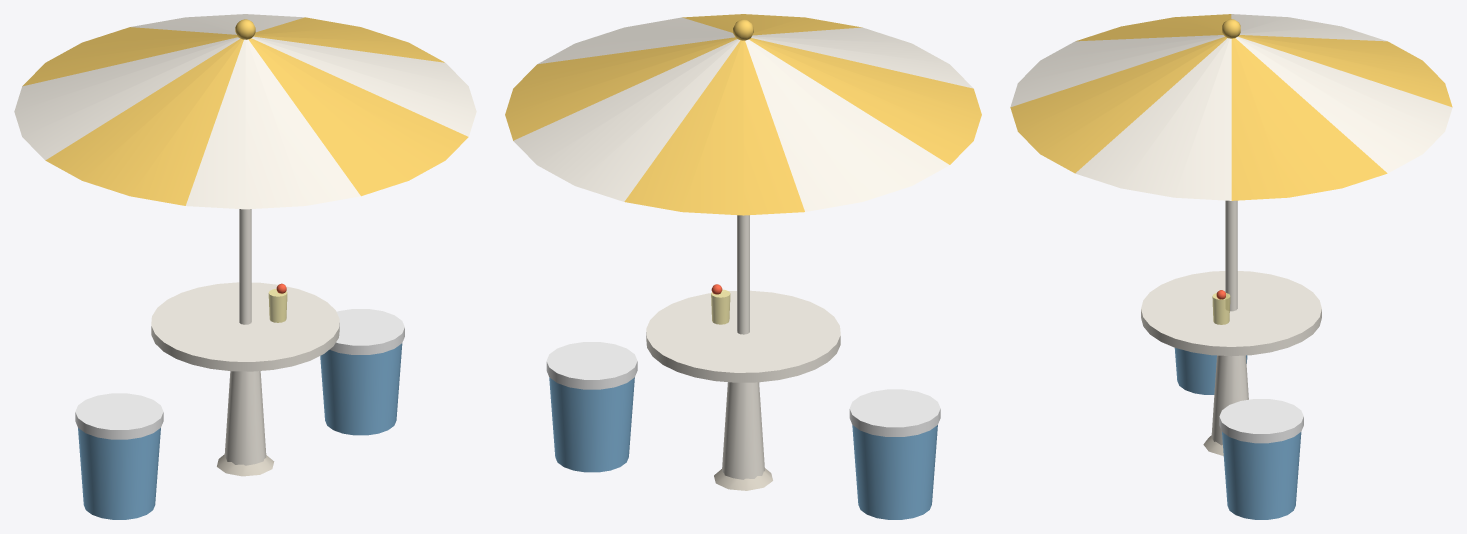
Rendered from parasol.glb.
The picture shows the model from 3 angles, left to right: view 1: azimuth 30°, elevation 25°; view 2: azimuth 150°, elevation 25°; view 3: azimuth 270°, elevation 25°; orthographic projection. The views are drawn at different scales.
Bounding box in the file's own units: 2.2 × 2.33 × 2.2.
